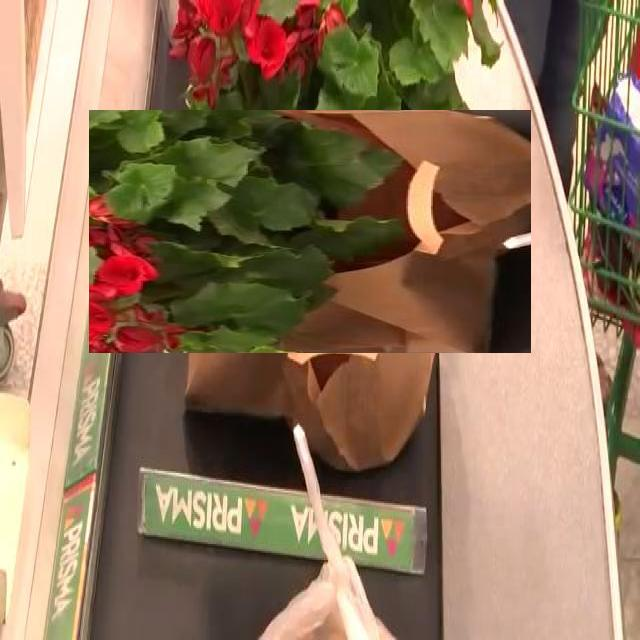utility-box: (138, 60, 482, 402)
